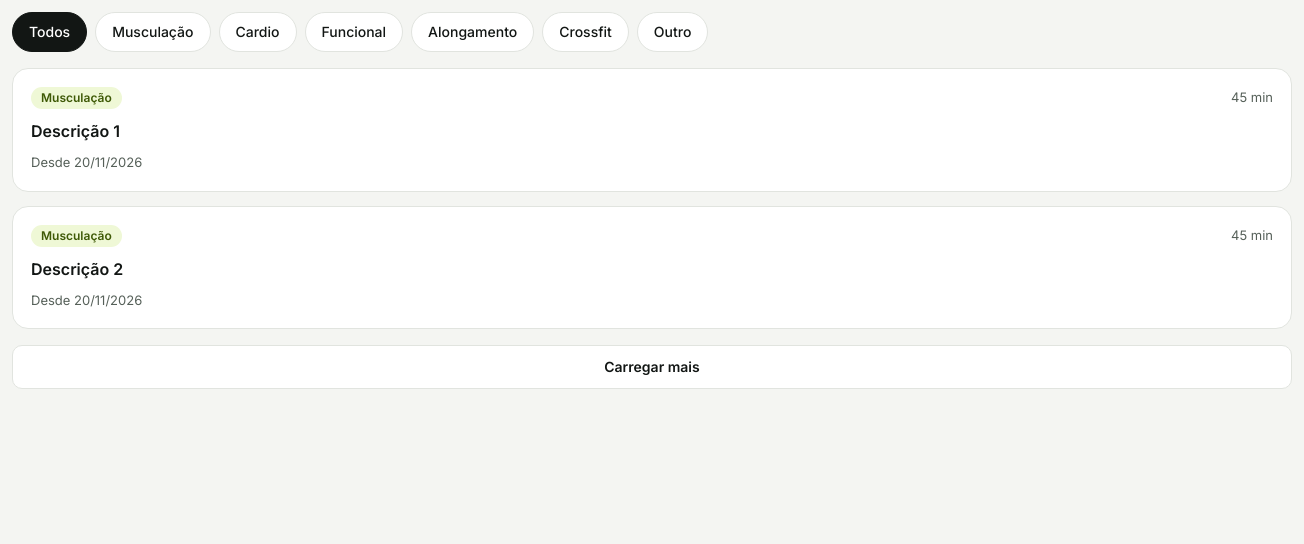
Test: MeusTreinos › não repete no Carregar mais o treino que já está na lista
The image size is (1304, 544).
Click the button "Carregar mais". click: (652, 367)
box: [12,345,1292,389]
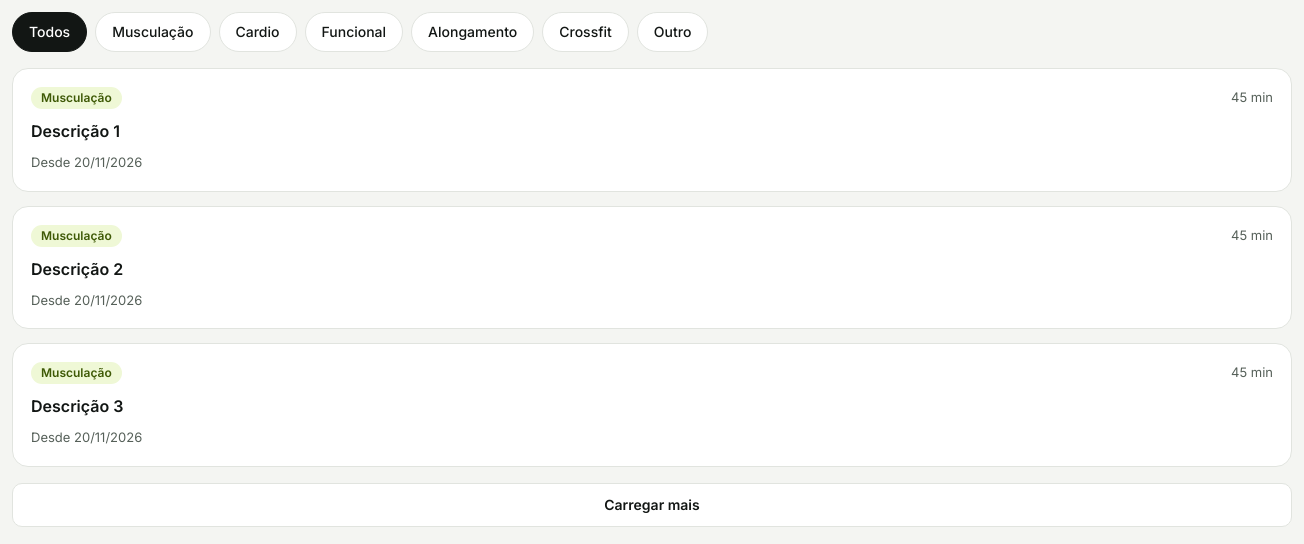
Expected: the text "Descrição 2" is shown once, [31,256,123,280]
Now the text "Descrição 3" is shown, box [31,394,123,418]
